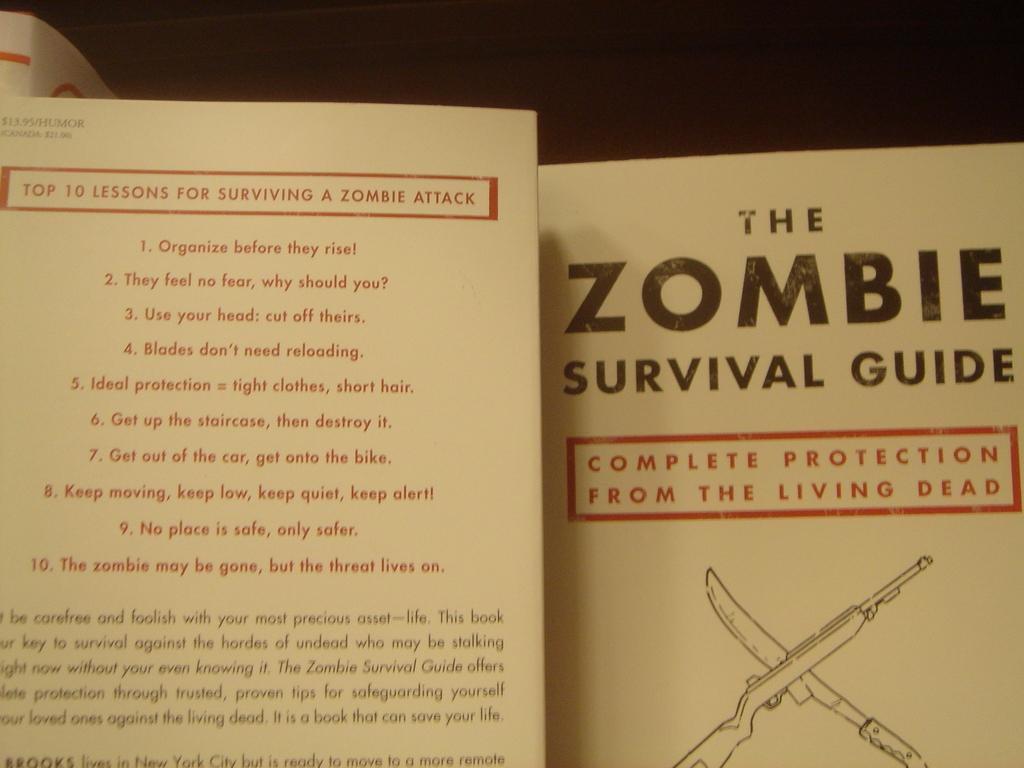Rifle: (675, 556, 934, 767)
